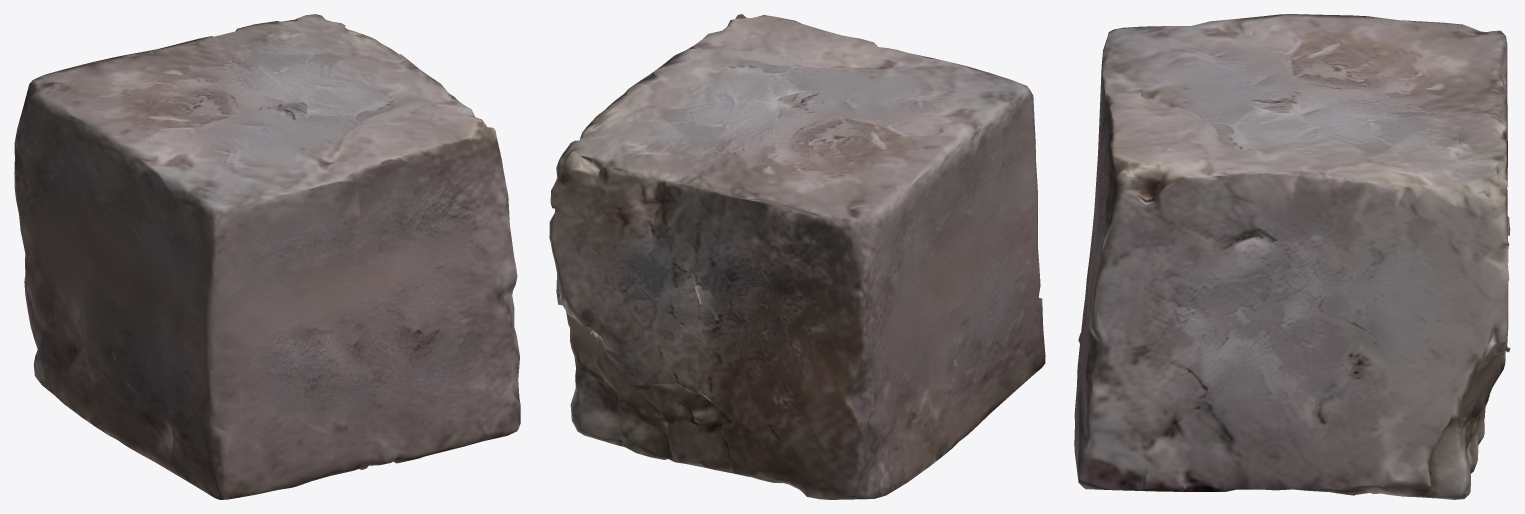
Rendered from stone+block+3d+model.fbx.
3 views of the same model, side by side, from view 1: azimuth 30°, elevation 25°; view 2: azimuth 150°, elevation 25°; view 3: azimuth 270°, elevation 25° (orthographic). The views are drawn at different scales.
Parts seen in each view (by area): view 1: tripo_node_532199f1; view 2: tripo_node_532199f1; view 3: tripo_node_532199f1.
Part boxes in pixels (left/top/right/bottom): tripo_node_532199f1: left=14, top=14, right=520, bottom=499; tripo_node_532199f1: left=549, top=14, right=1045, bottom=499; tripo_node_532199f1: left=1074, top=14, right=1510, bottom=499.
Size of the model in its own units: 0.9067 by 0.8423 by 0.993.
Materials: 1 (1 with a texture image).
